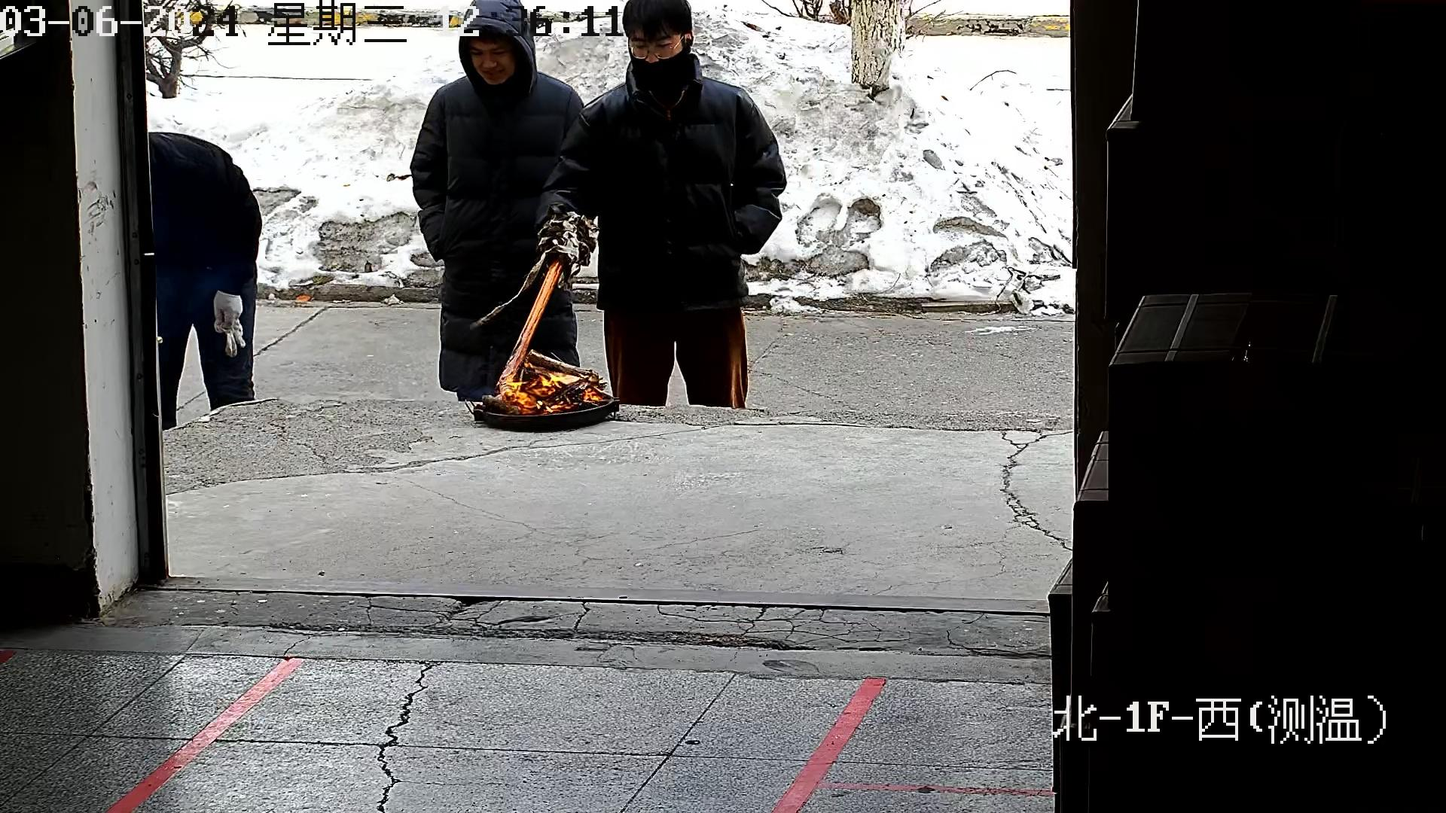fire: (491, 351, 610, 416)
